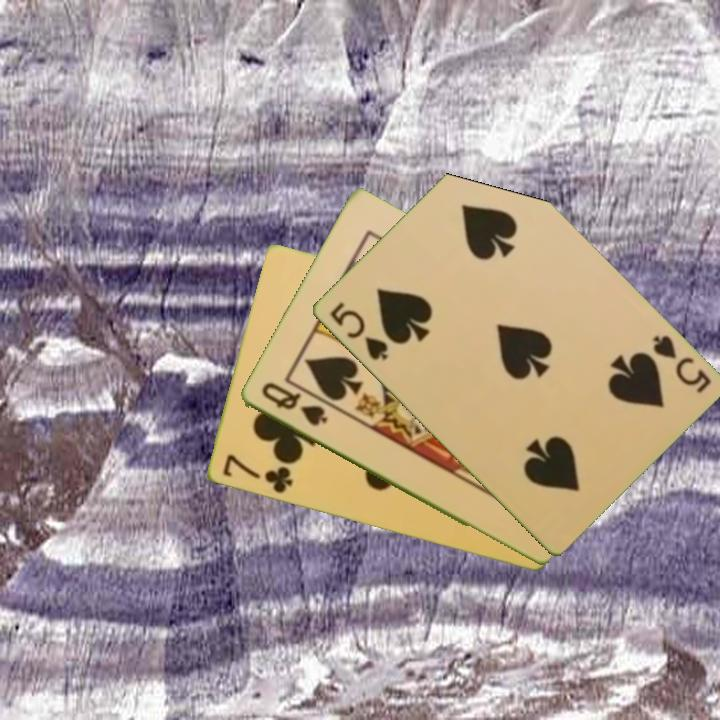5s: (648, 331, 713, 397), (325, 298, 390, 363)
7c: (219, 451, 295, 497)
Qs: (257, 378, 331, 429)
